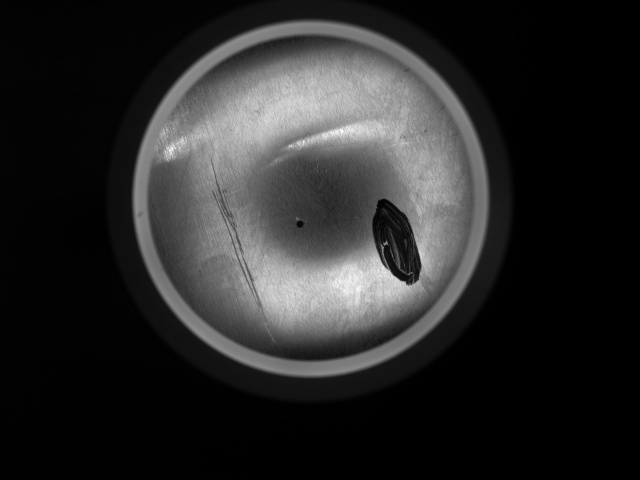ca_shang: (203, 151, 282, 341)
zang_wu: (370, 197, 425, 288)
zhen_kong: (293, 216, 306, 232)
